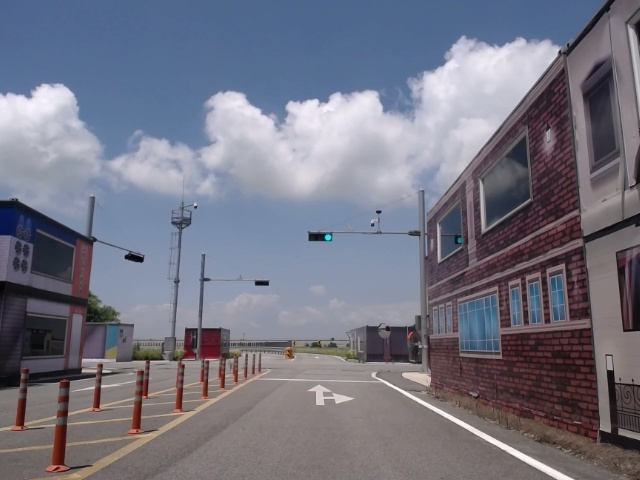green_3: (309, 233, 334, 240)
